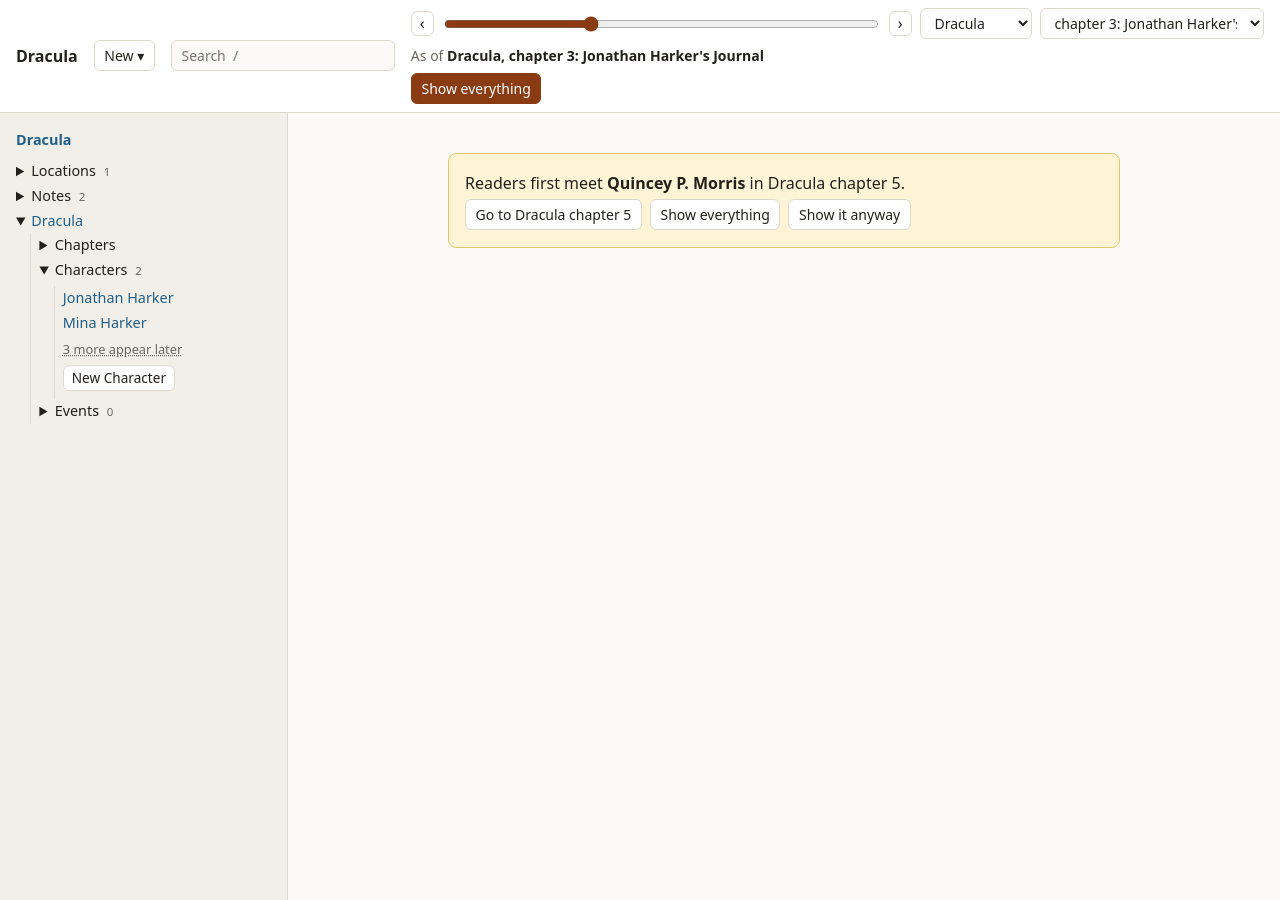
SC-WEB-13: opening a note the reader hasn’t met › shows a banner saying where readers first meet it, and nothing else of it
Expected: the text "Readers first meet Quincey P. Morris in Dracula chapter 5." is shown, [465,172,905,194]
Expected: the heading "Linked from" is not shown
Click the button "Go to Dracula chapter 5" at [553, 215], box [465,199,642,230]
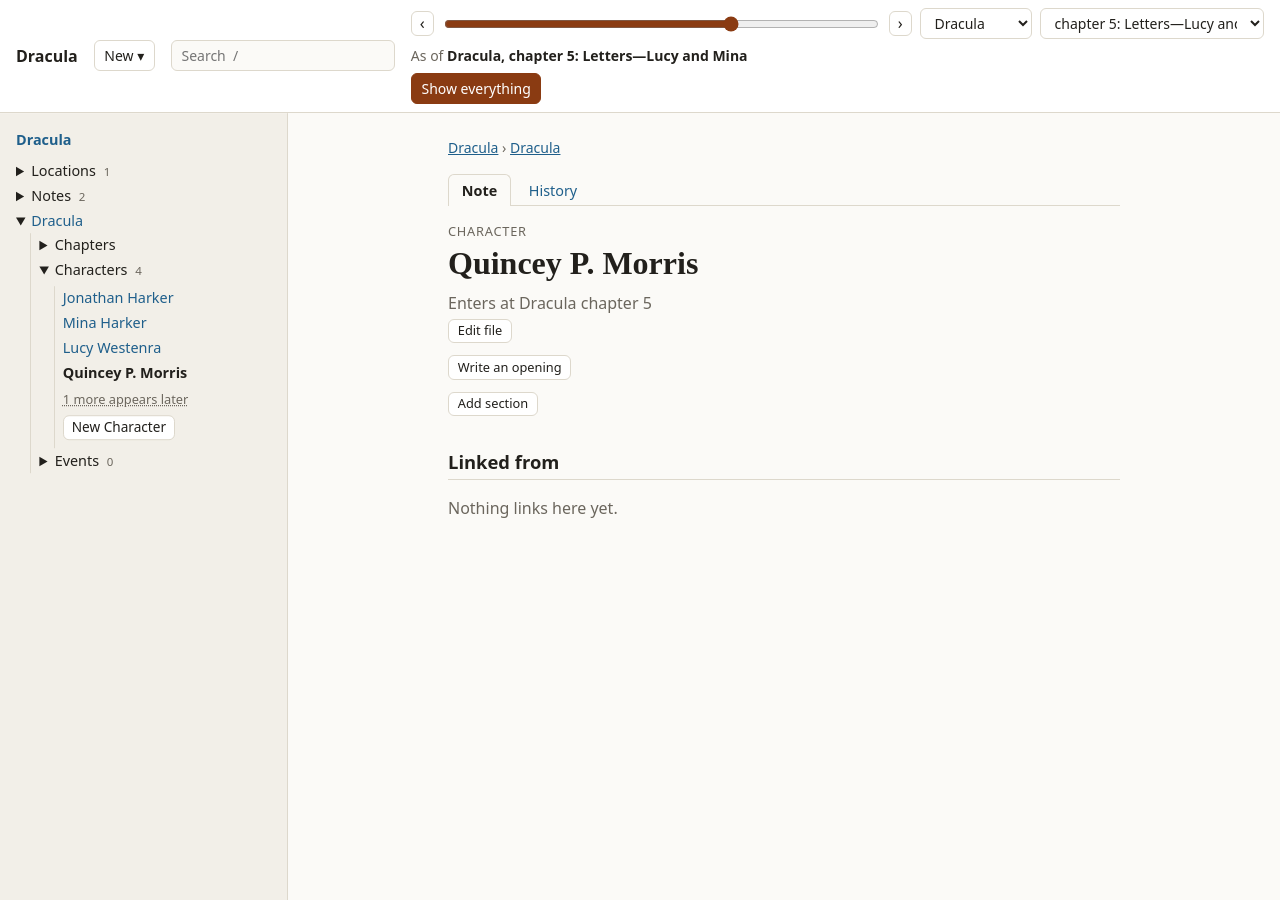
Now the heading "Quincey P. Morris" is shown, box [448,245,698,281]
